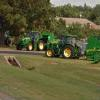Tractor: (18, 30, 89, 59)
